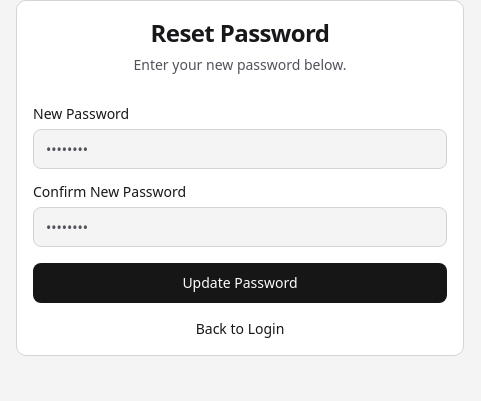
Test case: ResetPasswordForm › shows error if passwords don't match
Step 1. Type "password123" into the password field labelled "New Password" → {"x": 240, "y": 149}, box [33,129,447,169]
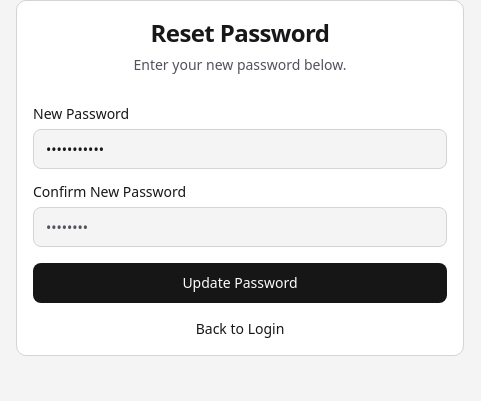
Step 2. Type "mismatch" into the password field labelled "Confirm New Password" → {"x": 240, "y": 227}, box [33,207,447,247]
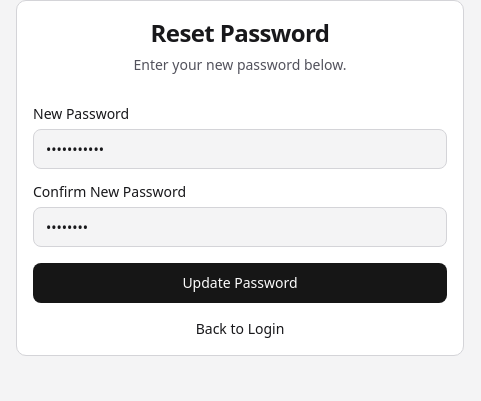
Step 3. Click the button "Update Password" → {"x": 240, "y": 283}, box [33,263,447,303]
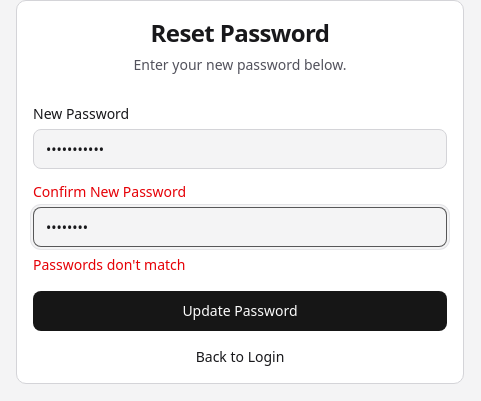
Expected: the text "Passwords don't match" is shown, [33,255,186,274]
